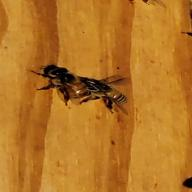Bee: (33, 59, 146, 113)
